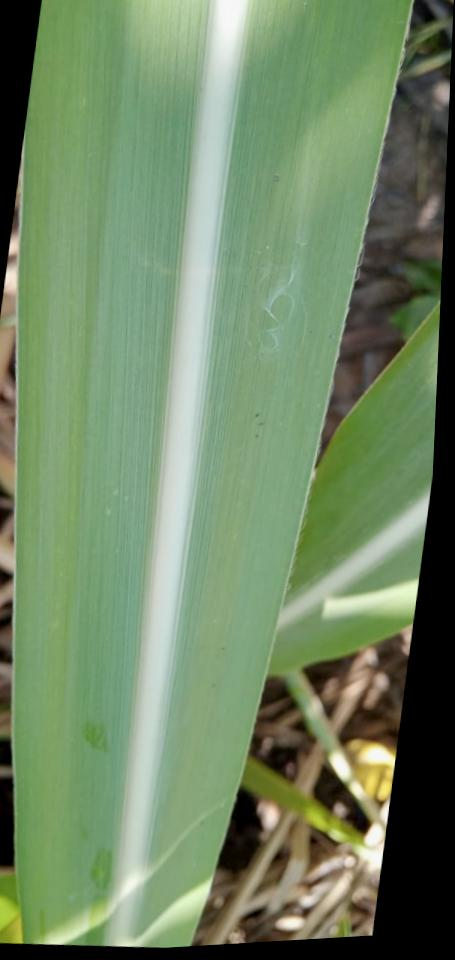Healthy: (11, 0, 411, 948), (268, 297, 441, 675)
